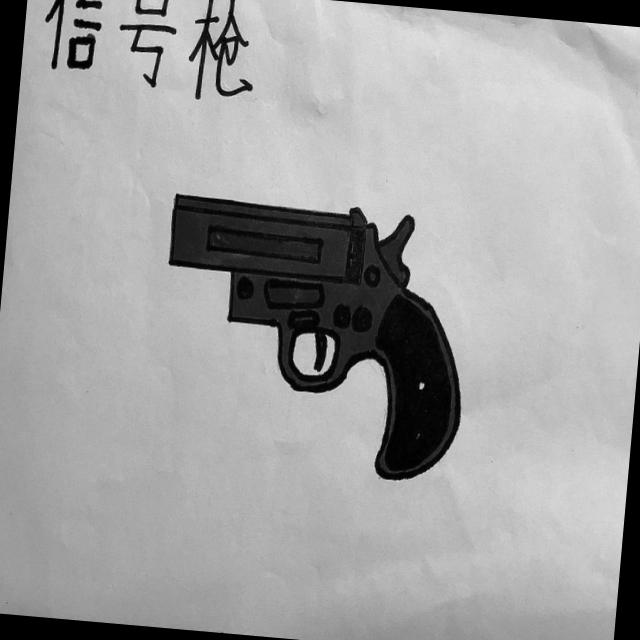gun: (150, 188, 478, 485)
